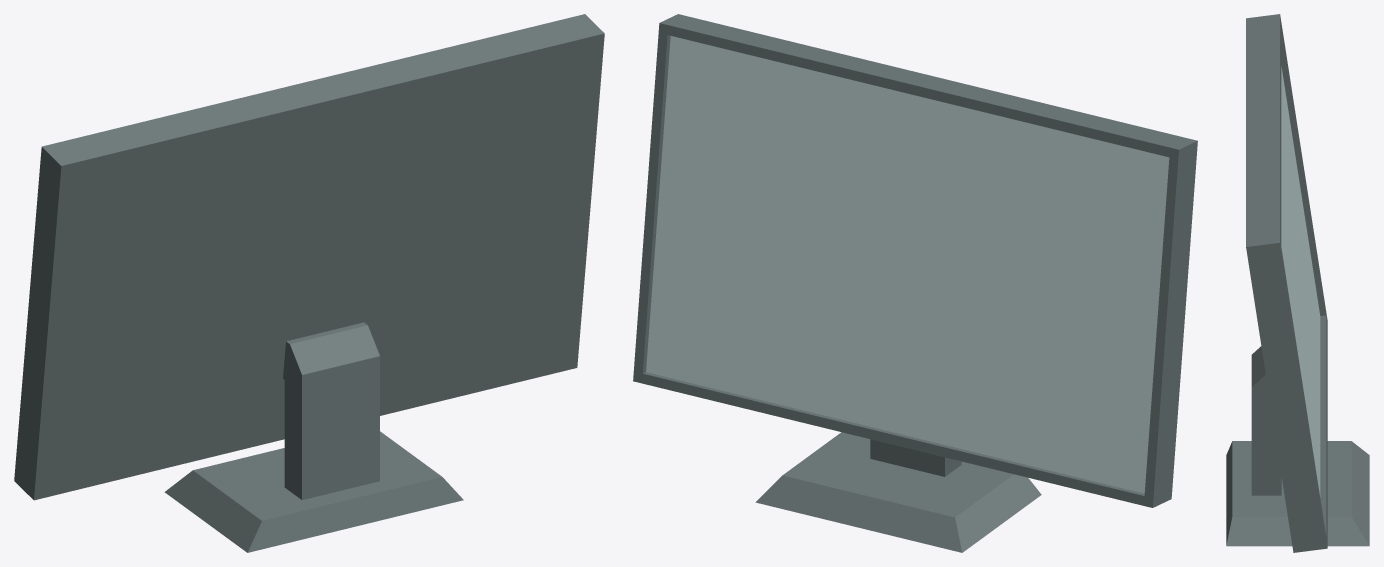
Rendered from computerScreen.glb.
3 renders of one model, left to right at view 1: azimuth 30°, elevation 25°; view 2: azimuth 150°, elevation 25°; view 3: azimuth 270°, elevation 25°, orthographic. The views are drawn at different scales.
Visible parts, largest first — view 1: computerScreen; view 2: computerScreen; view 3: computerScreen.
Part boxes in pixels (bbox=[...]): computerScreen: bbox=[14, 14, 604, 552]; computerScreen: bbox=[633, 14, 1197, 552]; computerScreen: bbox=[1226, 14, 1369, 552].
Bounding box in the file's own units: 3.93 × 2.94 × 1.04.
